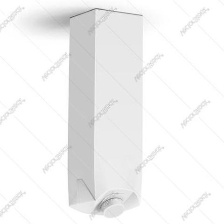carton: (61, 6, 150, 220)
